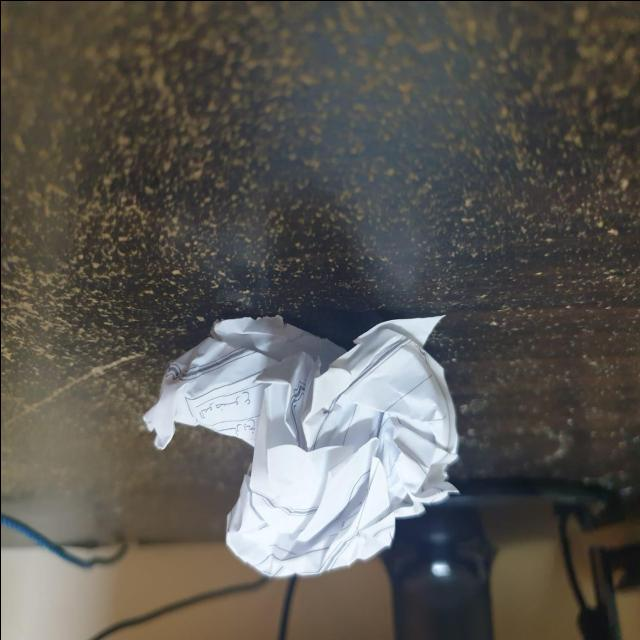kertas: (135, 307, 482, 598)
